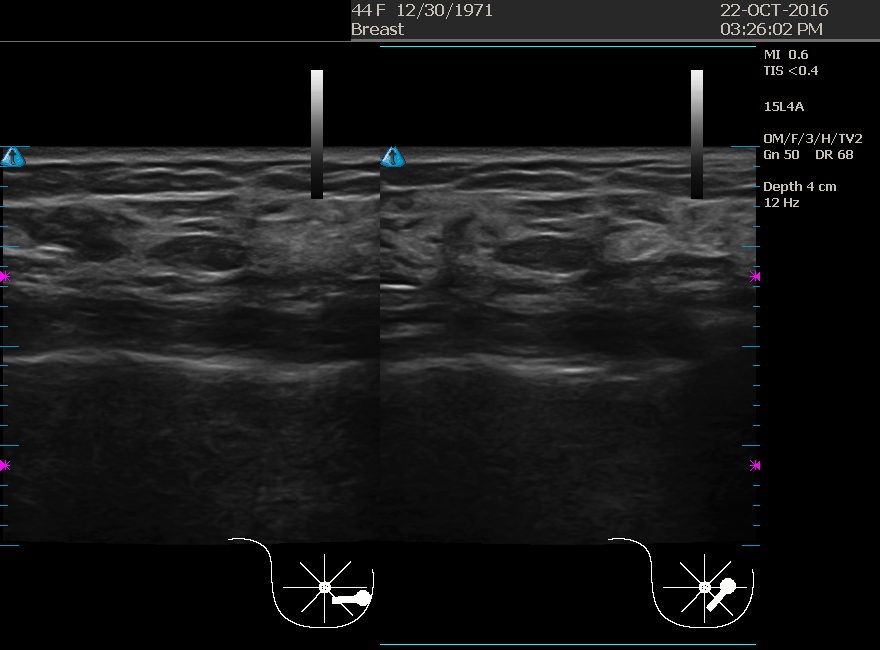BIRADS_3: (94, 169, 294, 370), (438, 178, 638, 378)
